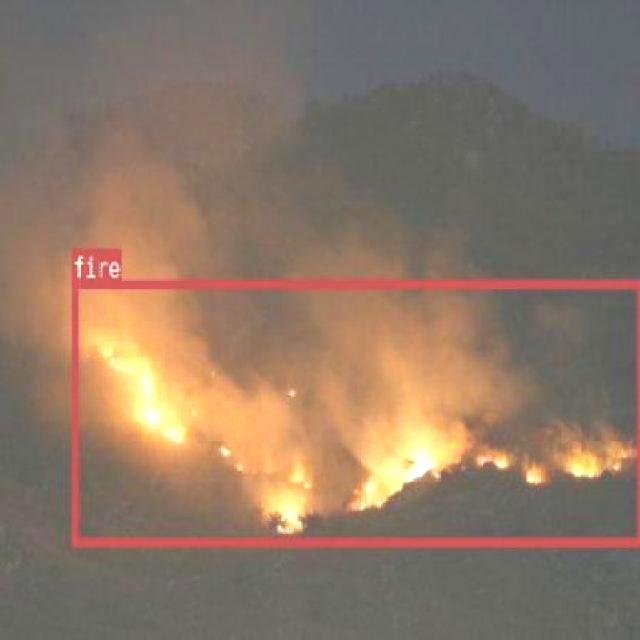fire: (71, 277, 640, 543)
